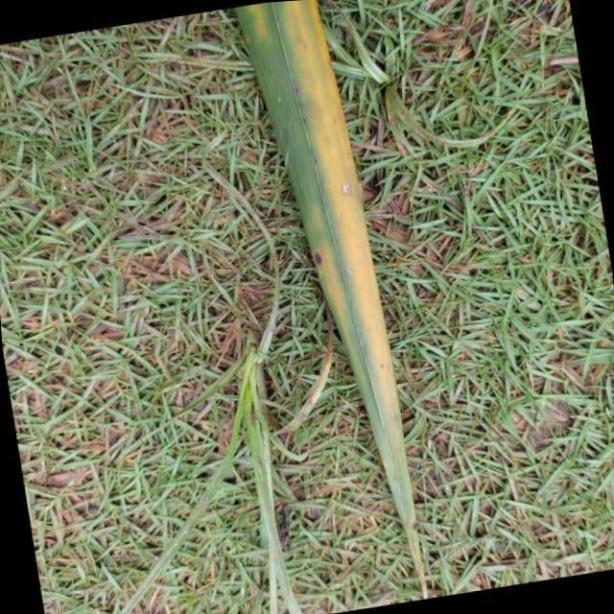Megnesium: (227, 0, 432, 608)
